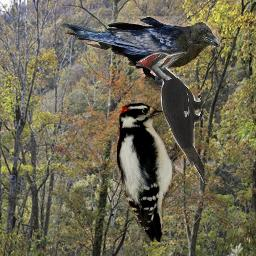Crow: (60, 16, 221, 102)
Woodpecker: (117, 103, 189, 242), (136, 52, 204, 184)
